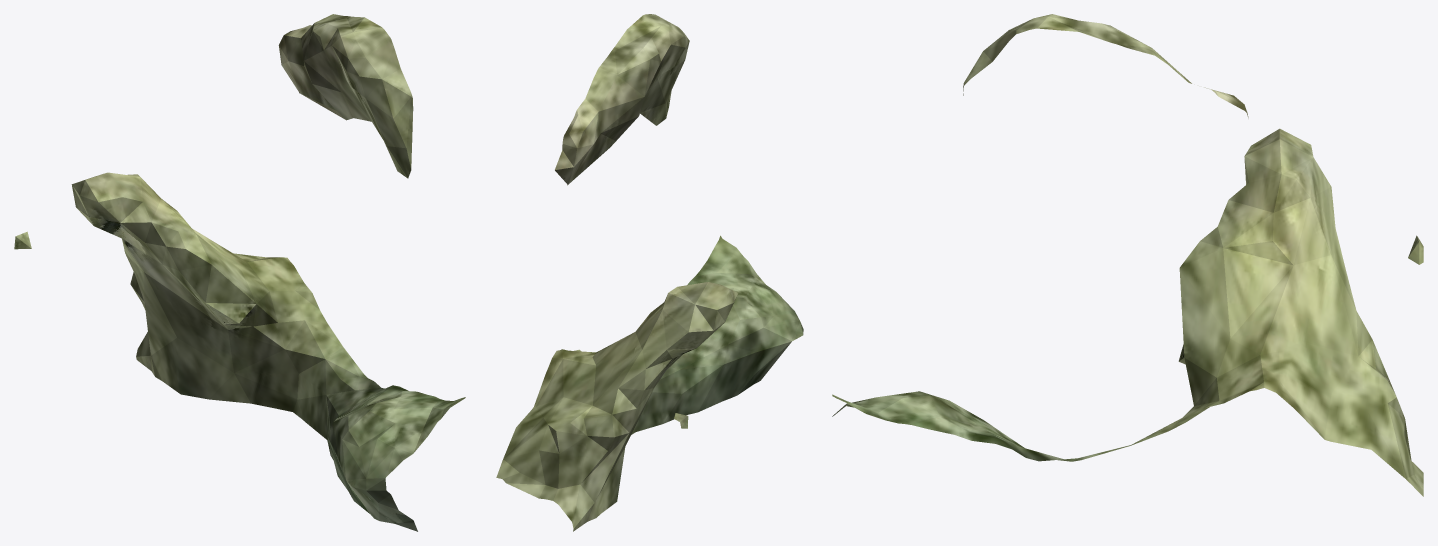
The picture shows the model from 3 angles, left to right: view 1: azimuth 30°, elevation 25°; view 2: azimuth 150°, elevation 25°; view 3: azimuth 270°, elevation 25°; orthographic projection. The views are drawn at different scales.
Bounding box in the file's own units: 1.44 × 2.84 × 2.95.
Materials: 2 (2 with a texture image).
